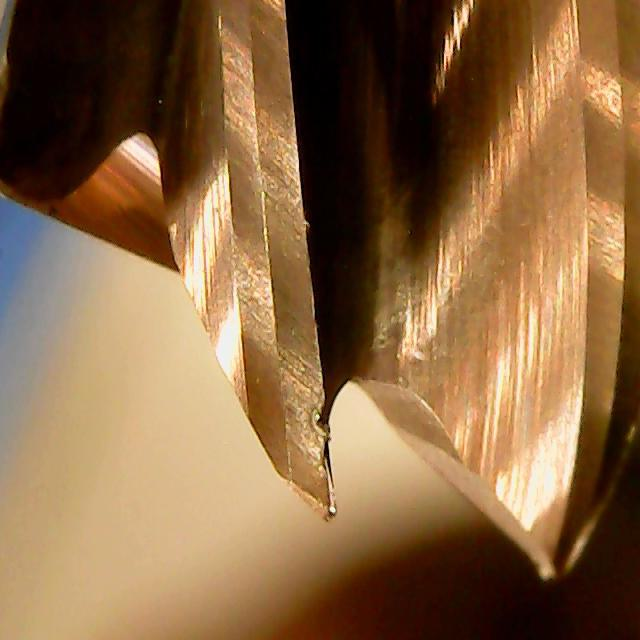Tool-wear-class-1: (213, 230, 351, 522)
